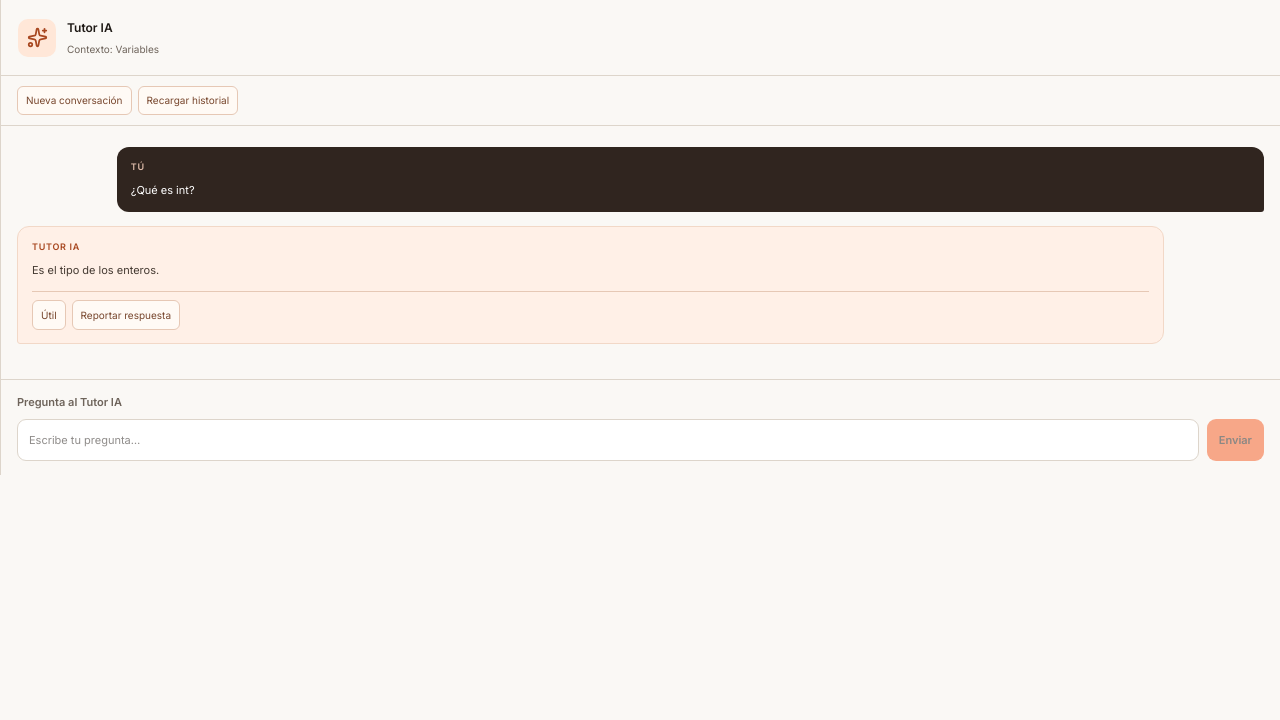
Test: Conversación del tutor › recupera respuestas guardadas y permite valorar su utilidad
This screenshot has width=1280, height=720.
Check: the text "Es el tipo de los enteros." is shown, box x1=32 y1=263 x2=159 y2=277
Click the button "Útil". click: (49, 315)
box: x1=32 y1=300 x2=66 y2=330
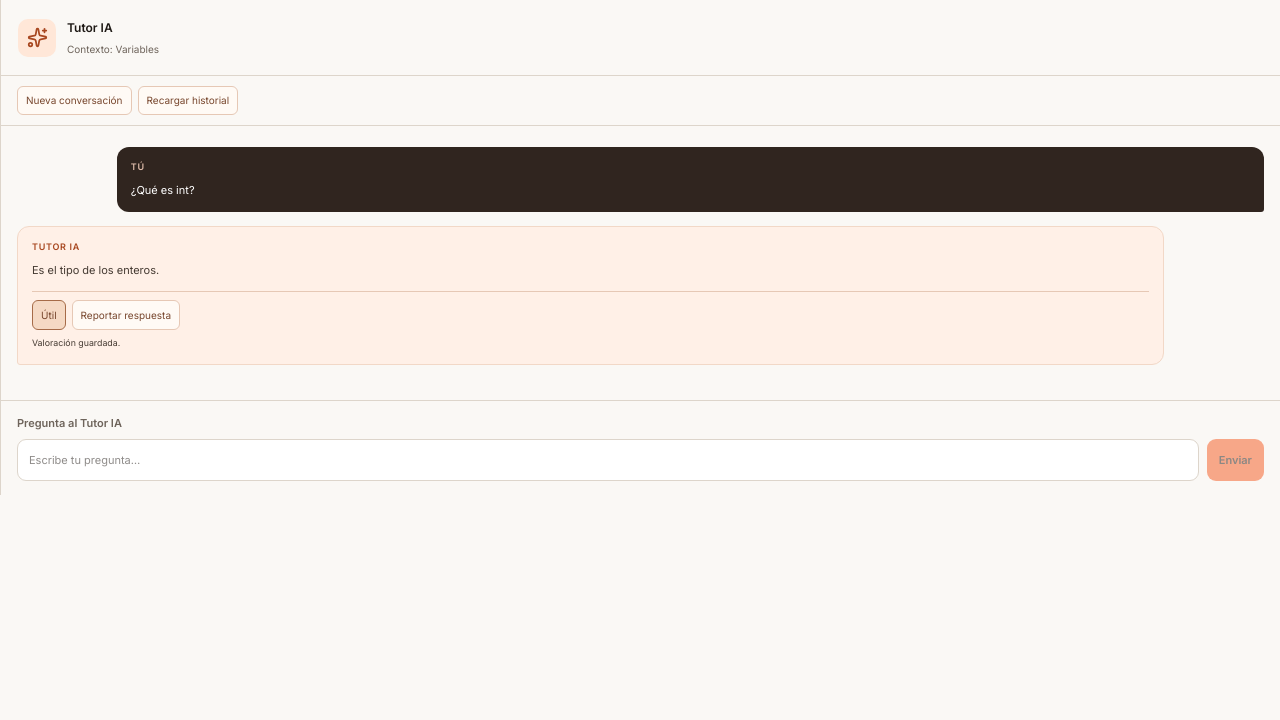
Check: the text "Valoración guardada." is shown, box x1=32 y1=338 x2=120 y2=348
